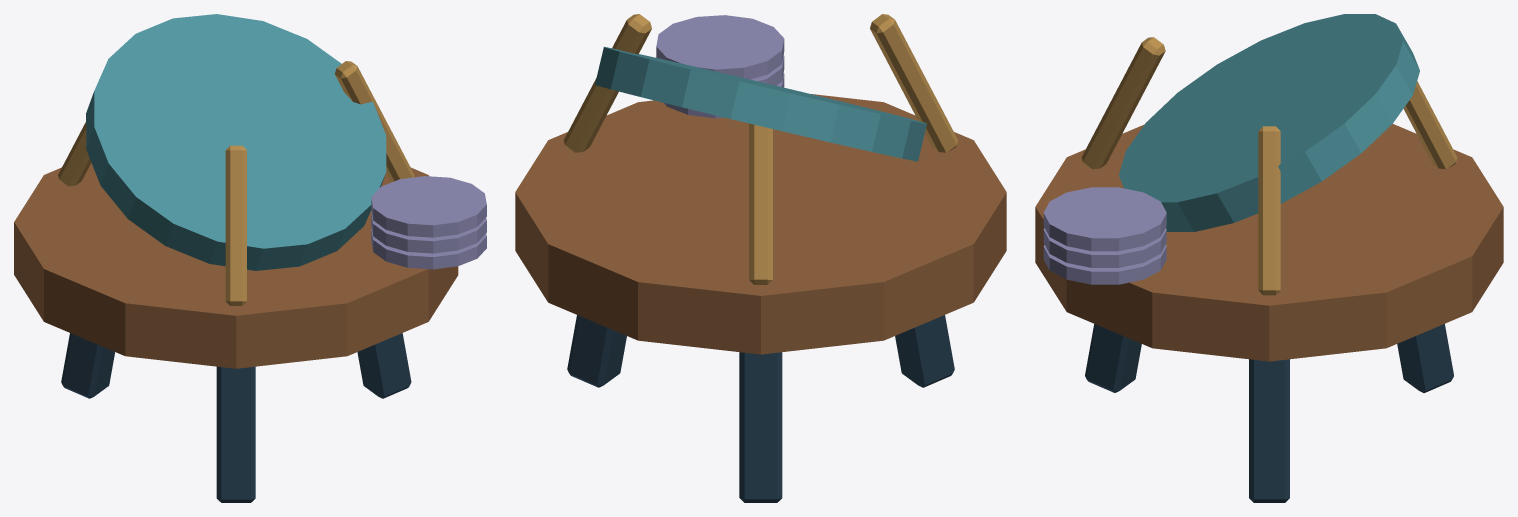
File: lensworks.glb
The picture shows the model from 3 angles, left to right: view 1: azimuth 30°, elevation 25°; view 2: azimuth 150°, elevation 25°; view 3: azimuth 270°, elevation 25°; orthographic projection. The views are drawn at different scales.
Visible parts, largest first — view 1: round workbench; view 2: round workbench; view 3: round workbench.
Part boxes in pixels (box(x1,y1,x2,y2)): round workbench: box(14, 14, 486, 502); round workbench: box(515, 14, 1006, 502); round workbench: box(1035, 14, 1503, 502).
Size of the model in its own units: 1.14 by 1.03 by 1.14.
